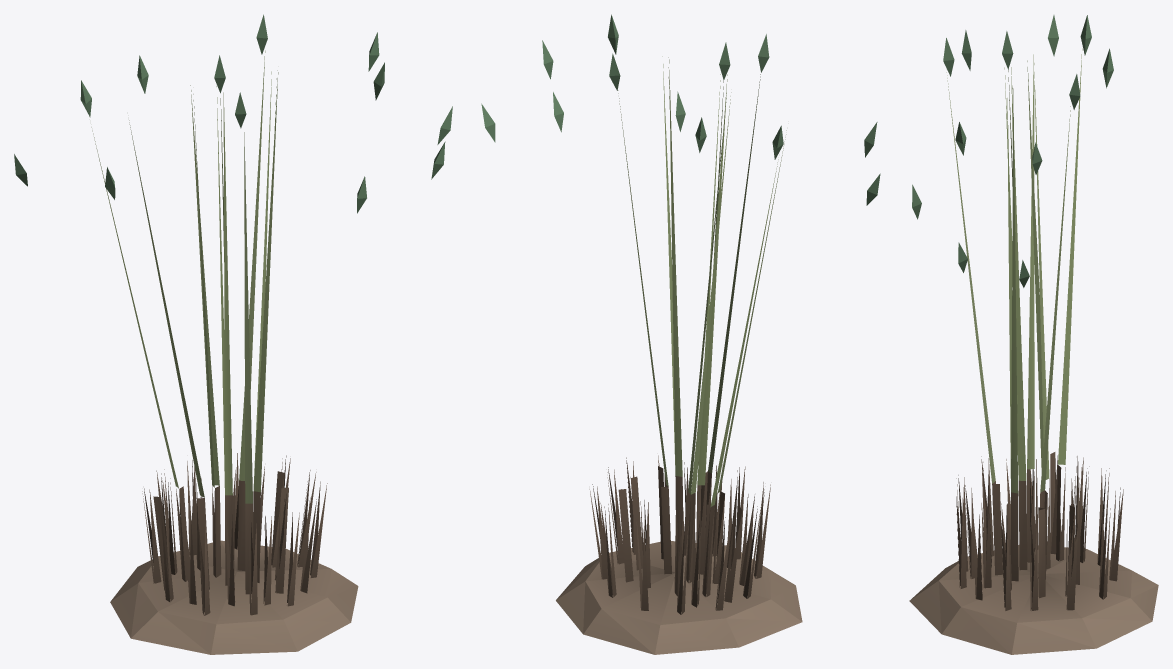
Rendered from reeds.lod.glb.
The picture shows the model from 3 angles, left to right: view 1: azimuth 30°, elevation 25°; view 2: azimuth 150°, elevation 25°; view 3: azimuth 270°, elevation 25°; orthographic projection.
Parts seen in each view (by area): view 1: reeds; view 2: reeds; view 3: reeds.
Boxes of the visible parts, x1,y1,x2,y2 form: reeds: (14, 14, 452, 654); reeds: (481, 14, 880, 654); reeds: (909, 15, 1158, 654).
Size of the model in its own units: 1.95 by 2.5 by 1.02.
